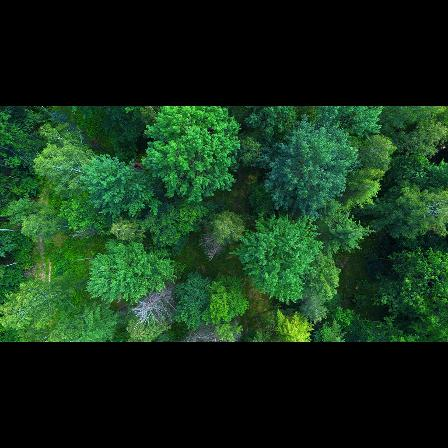Dead: (133, 283, 175, 324), (199, 227, 231, 268), (185, 325, 226, 342)
